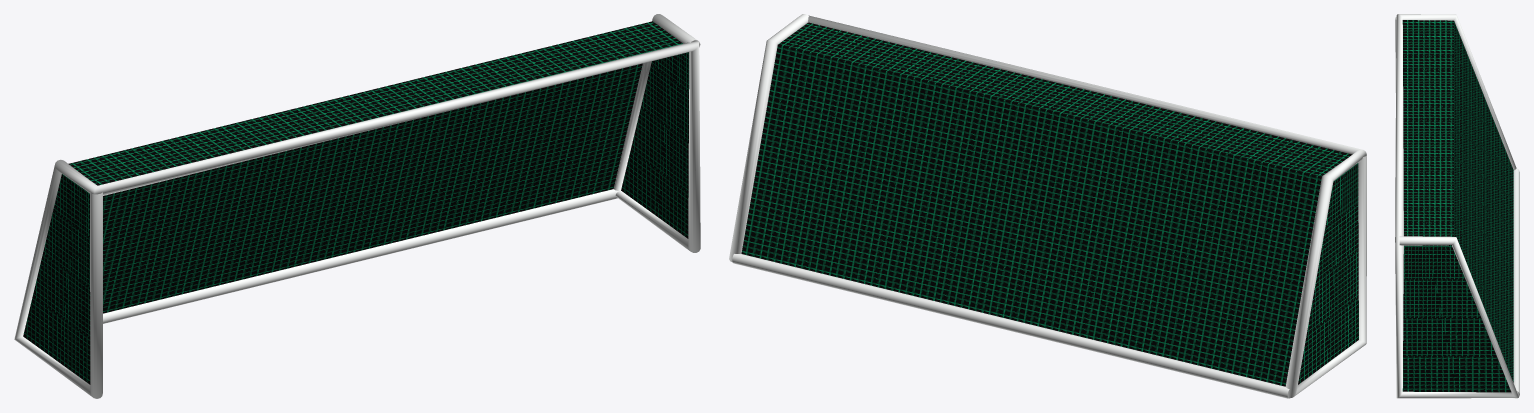
File: 54a8ddc4-13c4-4463-b40f-2dd4803a237a.glb
The picture shows the model from 3 angles, left to right: view 1: azimuth 30°, elevation 25°; view 2: azimuth 150°, elevation 25°; view 3: azimuth 270°, elevation 25°; orthographic projection. The views are drawn at different scales.
Visible parts, largest first — view 1: SoccerGoalNet, SoccerGoal; view 2: SoccerGoalNet, SoccerGoal; view 3: SoccerGoalNet, SoccerGoal.
Boxes of the visible parts, x1=… form: SoccerGoalNet: x1=23, y1=21, x2=689, y2=384; SoccerGoal: x1=14, y1=14, x2=700, y2=398; SoccerGoalNet: x1=741, y1=22, x2=1358, y2=386; SoccerGoal: x1=729, y1=14, x2=1366, y2=398; SoccerGoalNet: x1=1402, y1=20, x2=1513, y2=392; SoccerGoal: x1=1395, y1=14, x2=1519, y2=398.
Size of what is drawn, in the model's own units: 7.32 by 2.44 by 1.7.
Materials: 2 (2 with a texture image).
